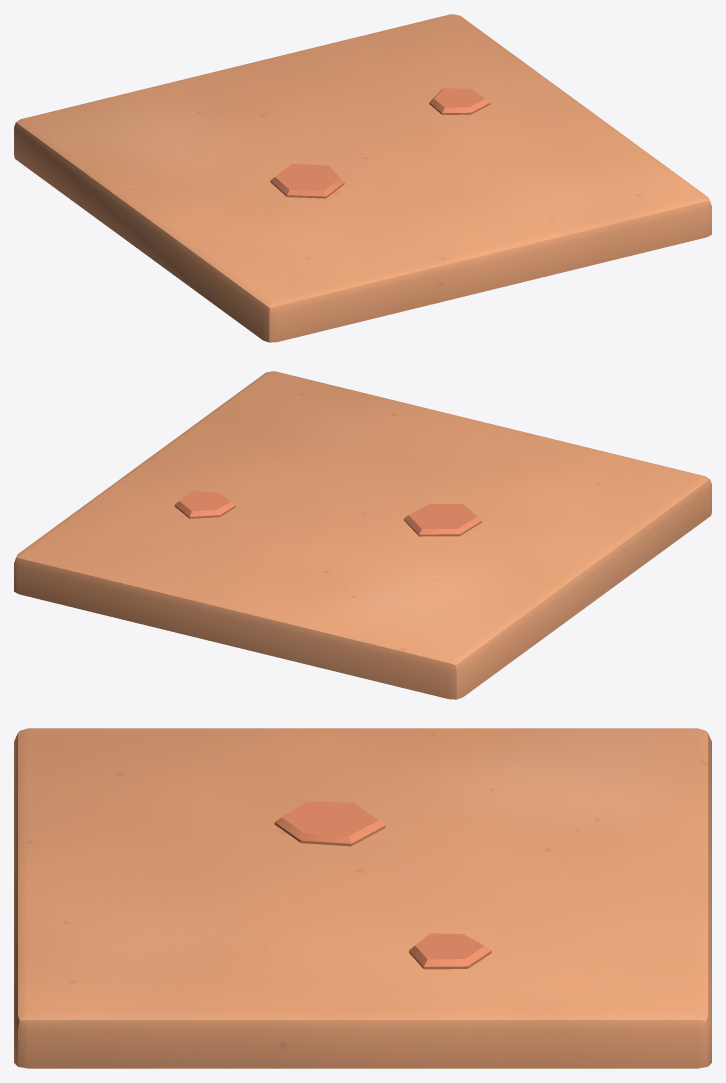
Rendered from sand_tile_b.glb.
The picture shows the model from 3 angles, top to bottom: view 1: azimuth 30°, elevation 25°; view 2: azimuth 150°, elevation 25°; view 3: azimuth 270°, elevation 25°; orthographic projection. The views are drawn at different scales.
Visible parts, largest first — view 1: sand_tile_b; view 2: sand_tile_b; view 3: sand_tile_b.
Part boxes in pixels (bbox=[...]): sand_tile_b: bbox=[14, 14, 711, 342]; sand_tile_b: bbox=[14, 371, 711, 699]; sand_tile_b: bbox=[14, 728, 711, 1068].
Size of the model in its own units: 1 by 0.092 by 1.
Materials: 2 (1 with a texture image).
